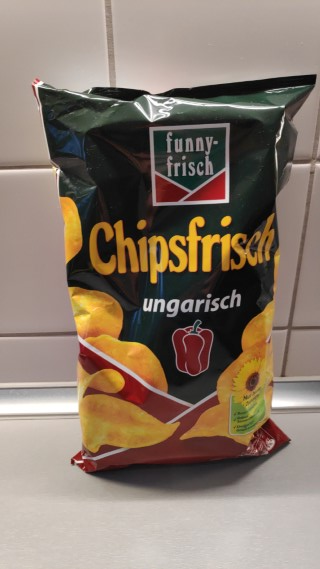chipsfrisch: (30, 73, 316, 476)
